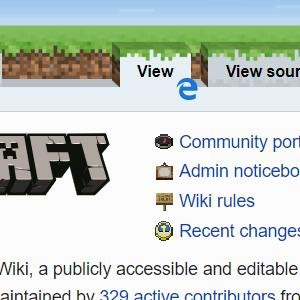edge: (176, 78, 198, 100)
